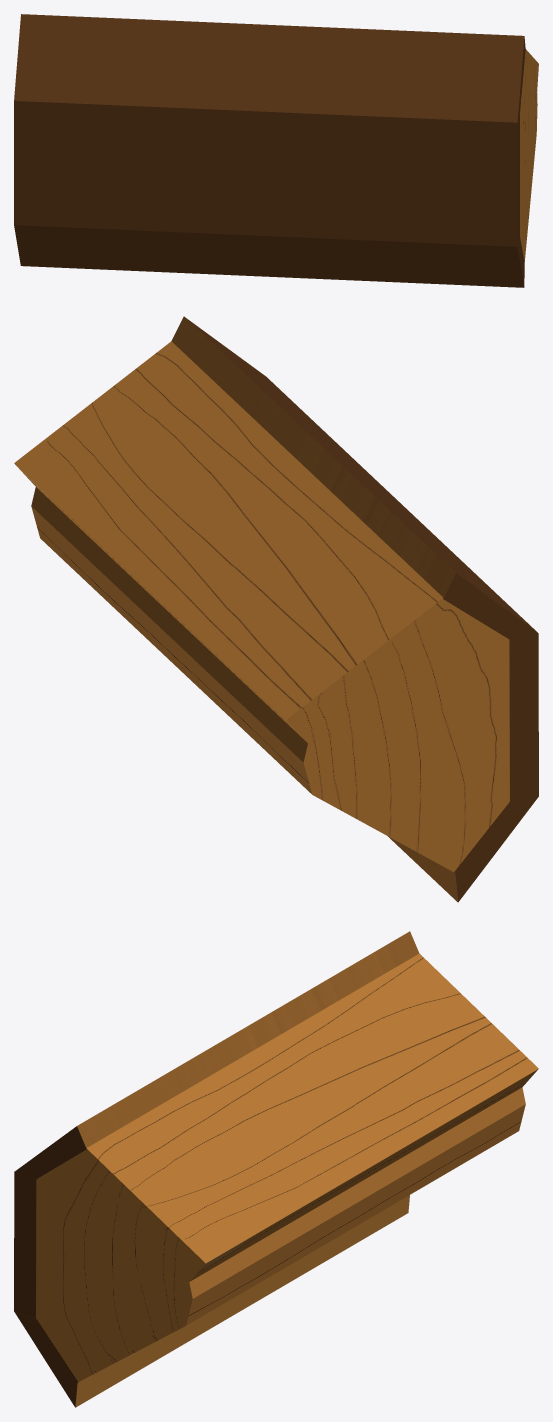
Rendered from FirePlace.fbx.
3 renders of one model, top to bottom at view 1: azimuth 30°, elevation 25°; view 2: azimuth 150°, elevation 25°; view 3: azimuth 270°, elevation 25°, orthographic. The views are drawn at different scales.
Parts seen in each view (by area): view 1: FireWood; view 2: FireWood; view 3: FireWood.
Part boxes in pixels (left/top/right/bottom): FireWood: left=14, top=14, right=538, bottom=287; FireWood: left=14, top=316, right=538, bottom=902; FireWood: left=14, top=931, right=538, bottom=1407.
Size of the model in its own units: 68.39 by 35.53 by 59.88.
